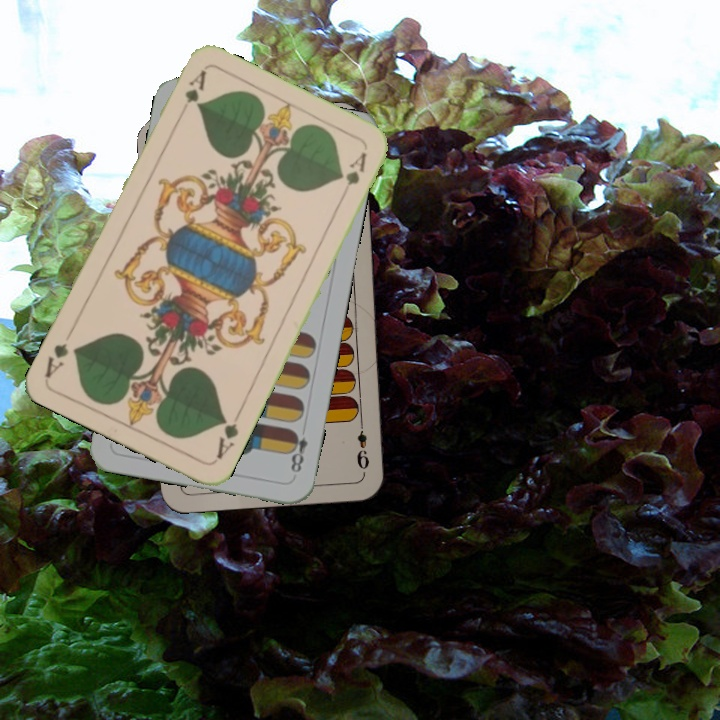E8: (284, 426, 310, 476)
E9: (353, 416, 372, 476)
GA: (212, 407, 243, 462), (180, 66, 209, 106)
